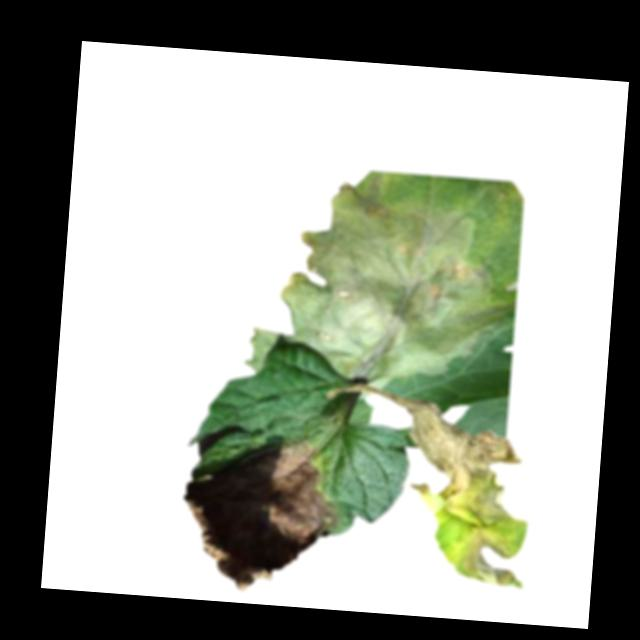Late_blight: (275, 166, 524, 390), (382, 393, 540, 590), (176, 434, 347, 599)
